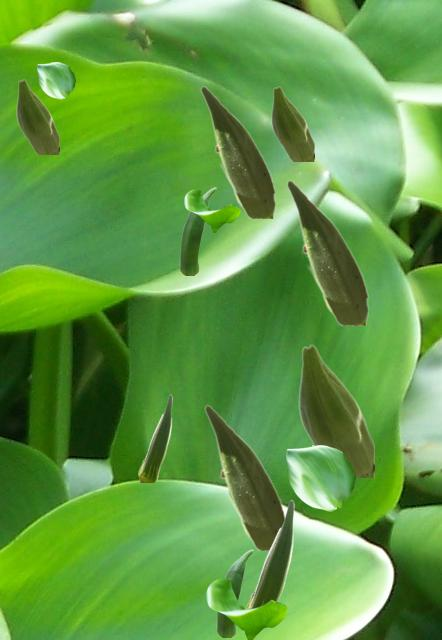okra: (286, 179, 367, 324), (204, 404, 284, 549), (298, 344, 373, 476), (200, 85, 274, 217), (245, 499, 293, 607), (216, 549, 252, 636), (179, 187, 215, 274), (271, 86, 313, 160), (16, 79, 58, 153), (138, 394, 171, 481)
